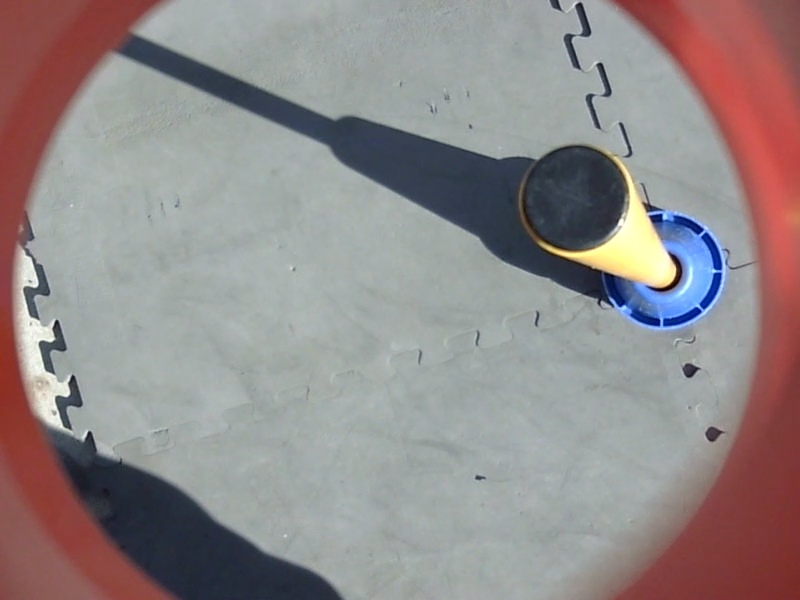tip: (514, 139, 639, 259)
